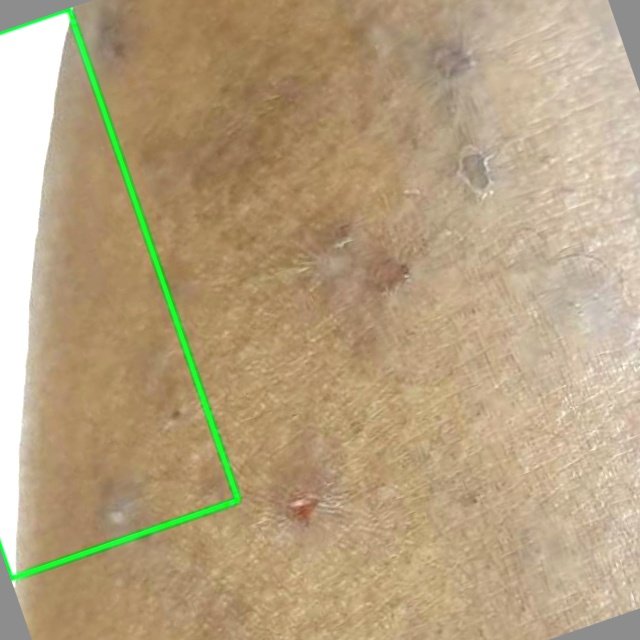Atopic Dermatitis: (0, 9, 238, 578)
